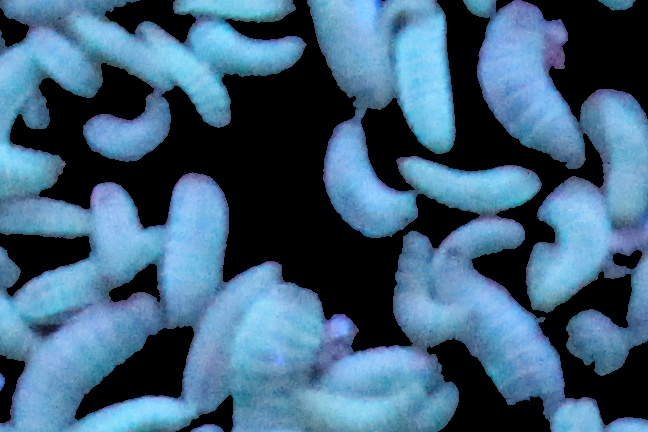larvae: (10, 290, 163, 432), (432, 262, 565, 411), (479, 2, 586, 169), (183, 260, 283, 400), (233, 284, 325, 432), (322, 118, 418, 237), (528, 177, 608, 311), (164, 170, 230, 328), (137, 21, 230, 128), (307, 1, 397, 108), (582, 89, 648, 225), (394, 13, 456, 154), (395, 155, 541, 212), (64, 15, 172, 92), (393, 231, 466, 344), (186, 21, 305, 75), (89, 181, 147, 284), (83, 96, 172, 163), (14, 256, 110, 318), (300, 387, 427, 432), (322, 344, 429, 394), (27, 28, 100, 97), (71, 395, 193, 432), (1, 41, 43, 141), (440, 216, 525, 264), (1, 141, 72, 196), (1, 196, 91, 237), (1, 292, 41, 363), (174, 1, 300, 21), (419, 383, 461, 432)
